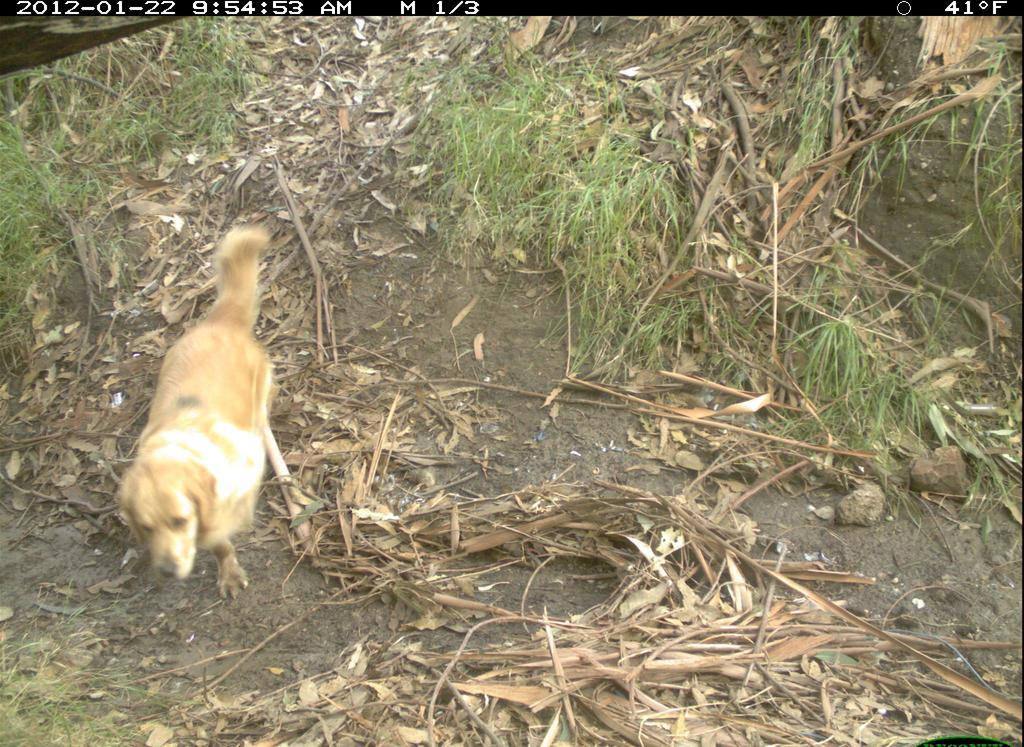dog: (112, 218, 299, 606)
